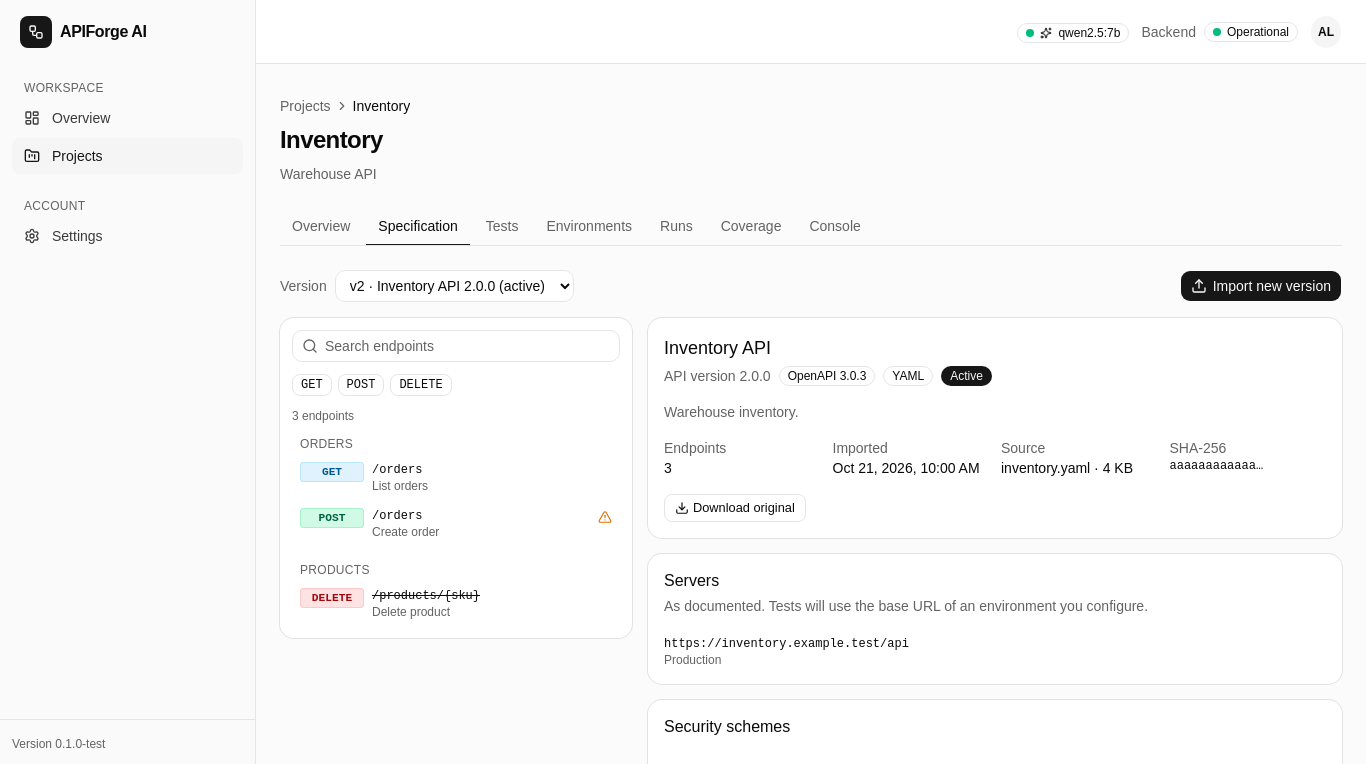
Test: Specification explorer › switches to an older version and makes it active
This screenshot has width=1366, height=764.
Step 1. Select "v1 · Inventory API 1.0.0" in the dropdown labelled "Version" → (454, 286), box [335, 270, 574, 302]
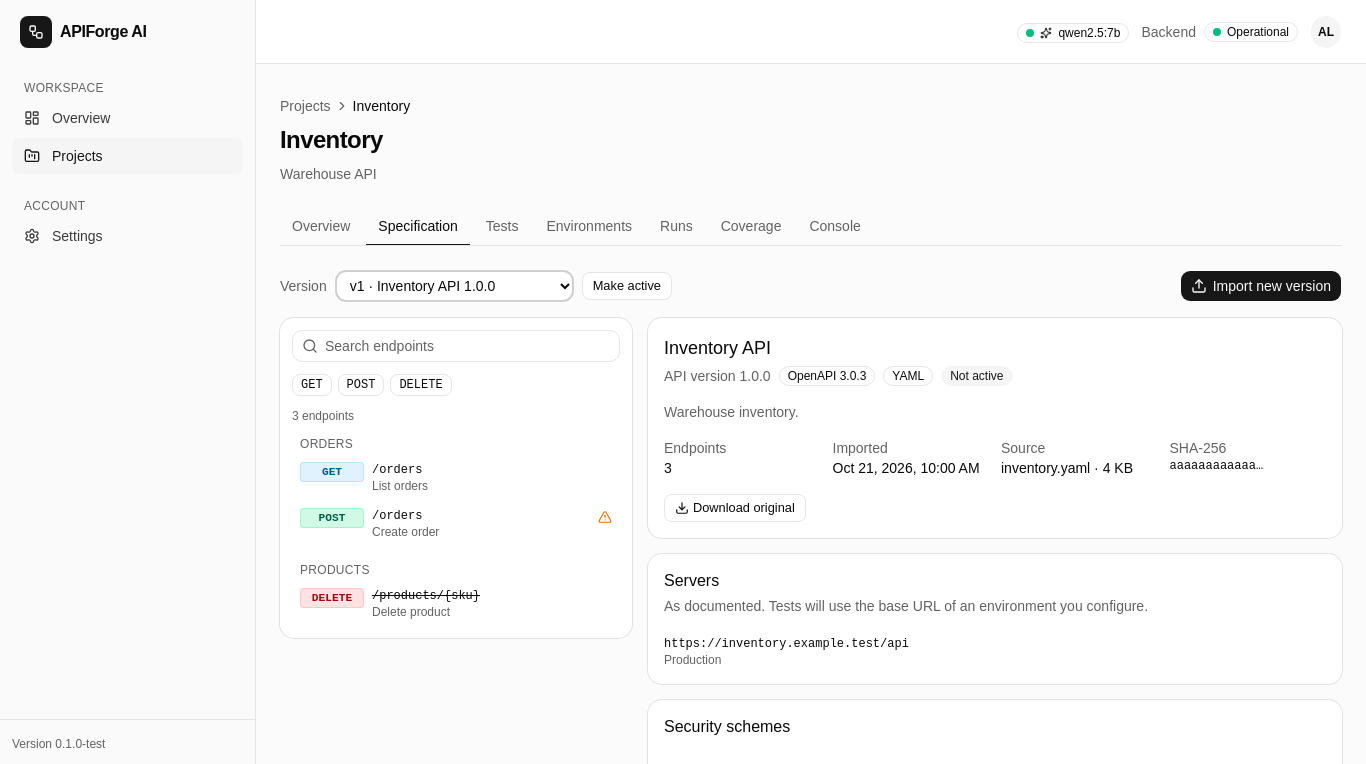
Step 2. Click the button "Make active" → (627, 286), box [582, 272, 672, 300]
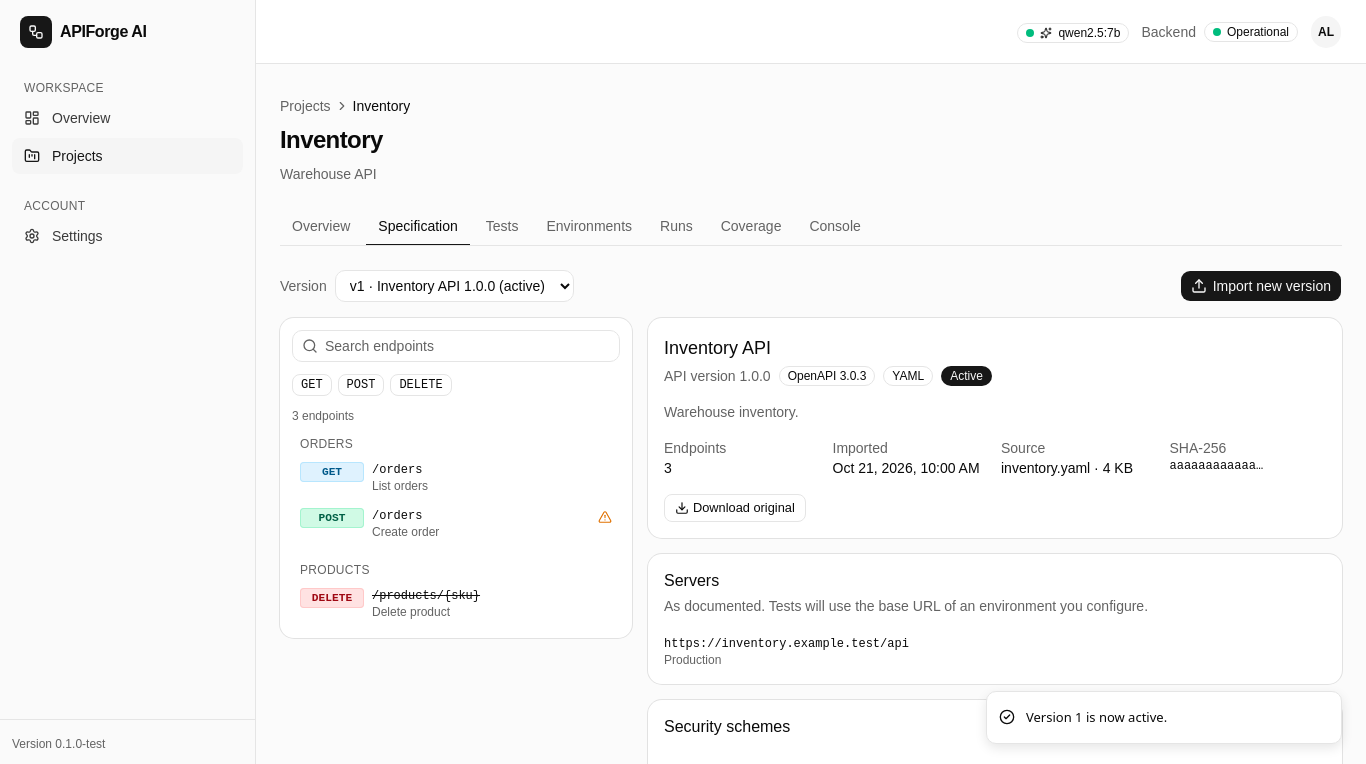
Check: the text "Version 1 is now active." is shown, box [1026, 708, 1167, 727]
